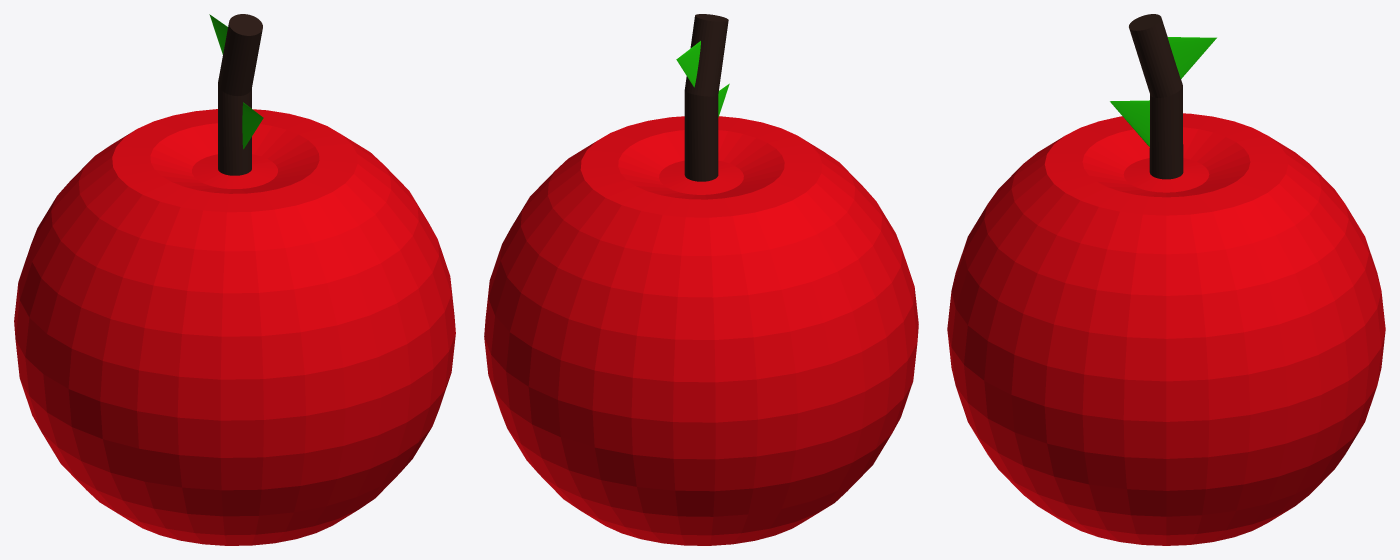
The model's file is Apple.fbx.
3 views of the same model, side by side, from view 1: azimuth 30°, elevation 25°; view 2: azimuth 150°, elevation 25°; view 3: azimuth 270°, elevation 25° (orthographic).
Parts seen in each view (by area): view 1: Cone; view 2: Cone; view 3: Cone.
Part boxes in pixels (box(x1,y1,x2,y2)): Cone: box(14, 14, 455, 545); Cone: box(484, 14, 918, 545); Cone: box(947, 14, 1385, 545).
Size of the model in its own units: 200 by 251 by 200.
